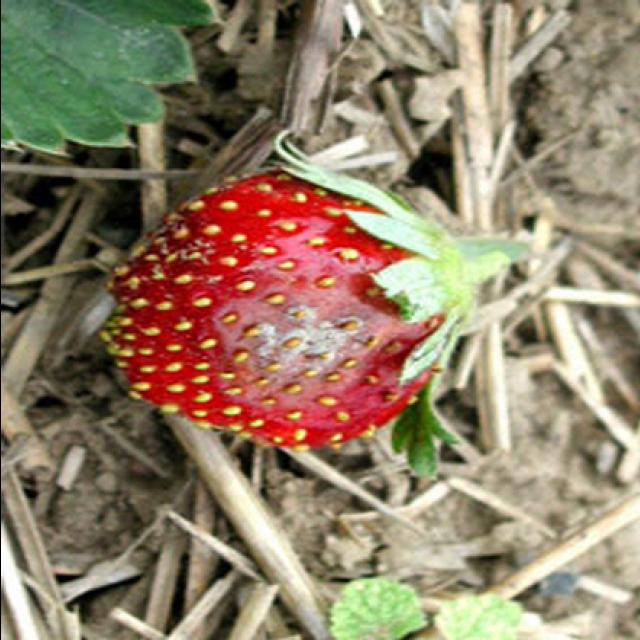Gray Mold: (208, 253, 444, 425)
